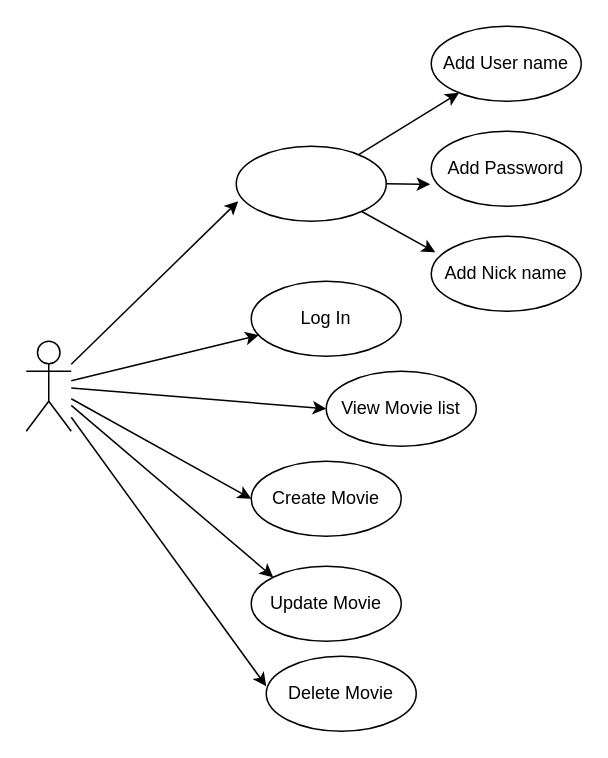
This 608x758 diagram has some shape labels left out. The box of each missing label's shape, as (x1, y1, x2, y2) in pixels:
Register: (235, 145, 386, 221)
User: (25, 340, 71, 431)
